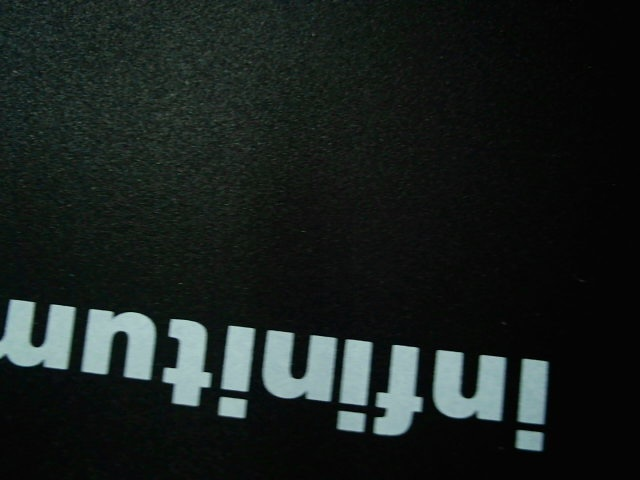BK_infinitum: (4, 289, 569, 459)
